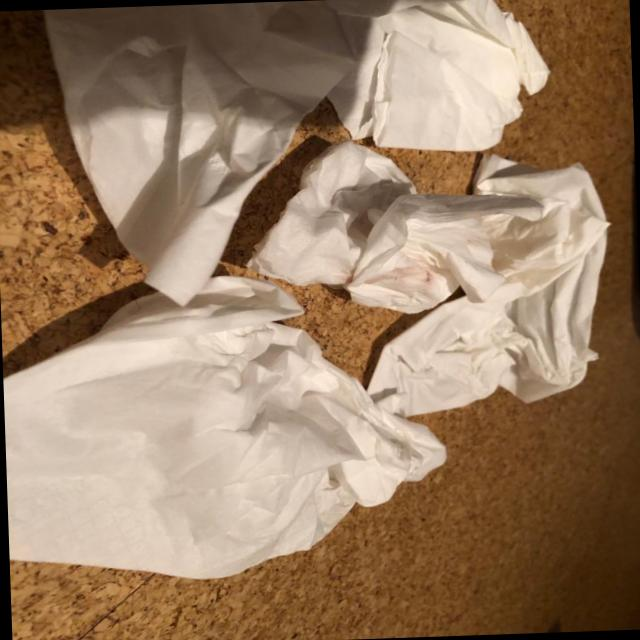organic waste: (44, 0, 561, 314), (0, 266, 452, 593), (234, 129, 629, 323), (355, 146, 620, 420)
